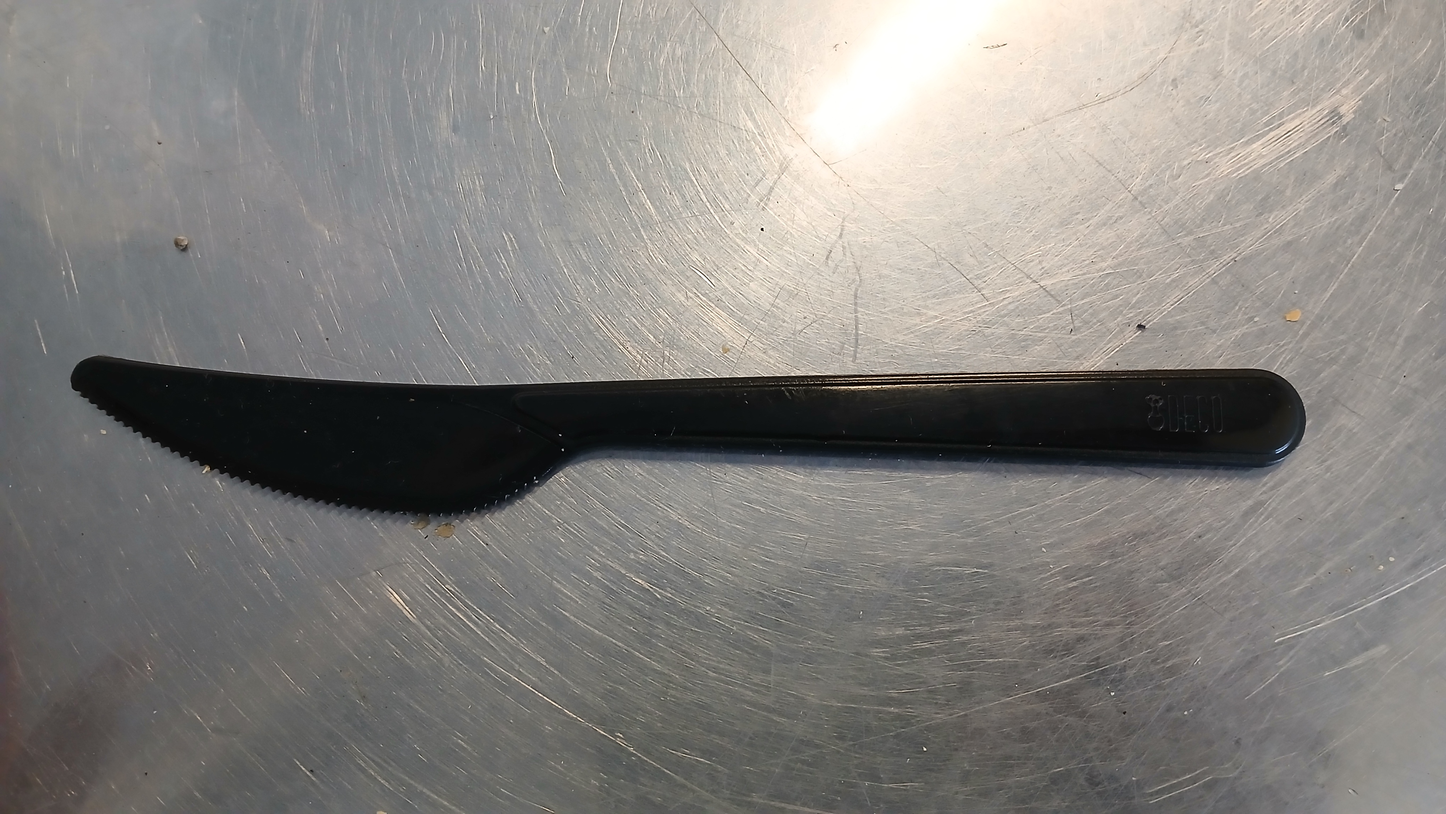Ordinario: (72, 353, 1305, 517)
